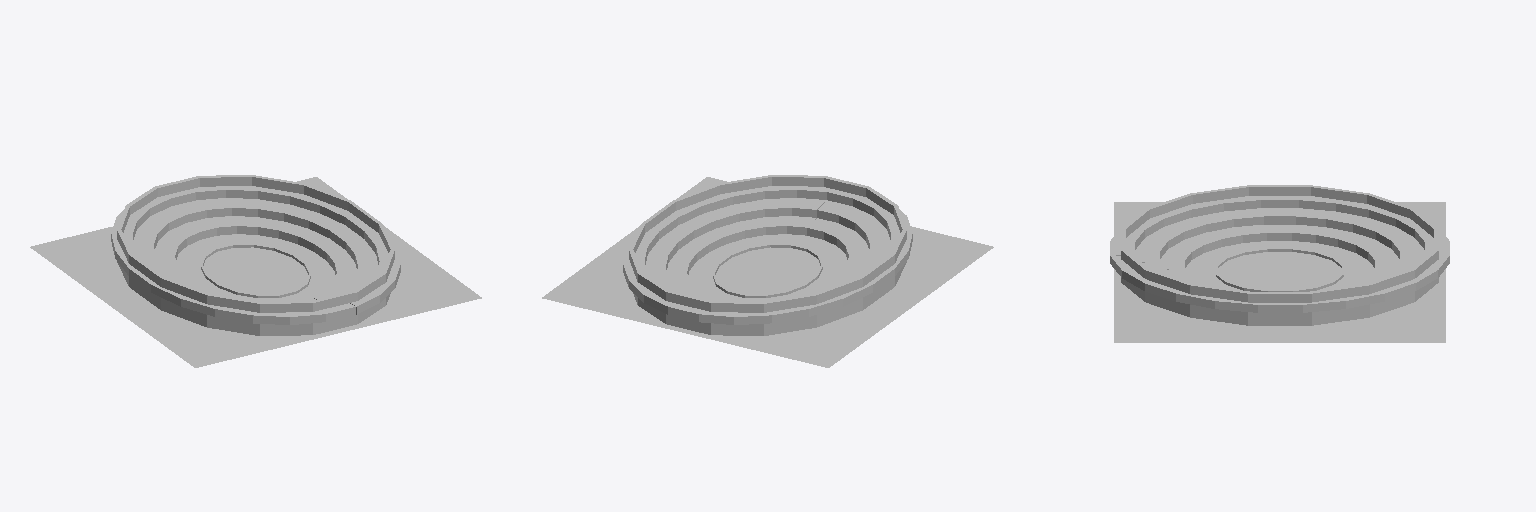
File: colosseum.obj
3 renders of one model, left to right at view 1: azimuth 30°, elevation 25°; view 2: azimuth 150°, elevation 25°; view 3: azimuth 270°, elevation 25°, orthographic.
Visible parts, largest first — view 1: Plane, Cube, outerwall, inner_wall; view 2: Plane, Cube, outerwall, inner_wall; view 3: Cube, Plane, outerwall, inner_wall.
Boxes of the visible parts, box(x1,y1,x2,y2) form: Plane: box(30, 177, 481, 367); Cube: box(111, 186, 400, 324); outerwall: box(117, 175, 394, 335); inner_wall: box(201, 244, 310, 297); Plane: box(542, 177, 993, 367); Cube: box(623, 186, 912, 324); outerwall: box(629, 175, 906, 335); inner_wall: box(713, 244, 822, 297); Cube: box(1110, 196, 1449, 312); Plane: box(1114, 202, 1445, 342); outerwall: box(1121, 185, 1438, 325); inner_wall: box(1216, 249, 1343, 291).
Bounding box in the file's own units: 467 × 51.39 × 477.